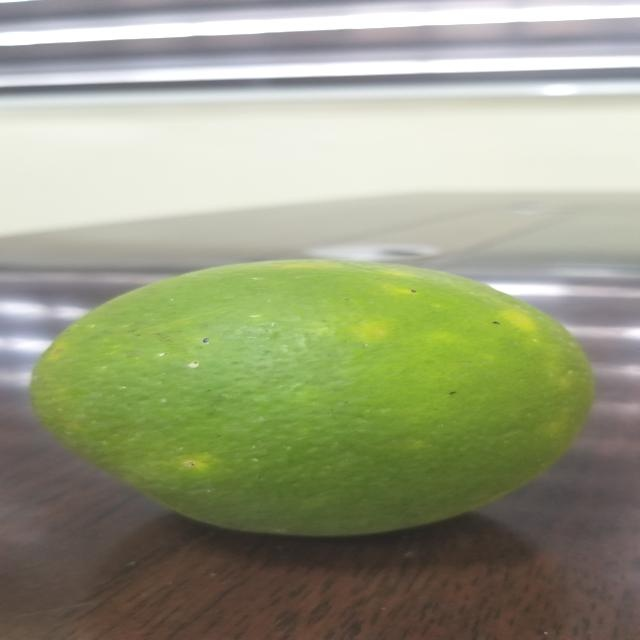agrume: (33, 236, 614, 548)
